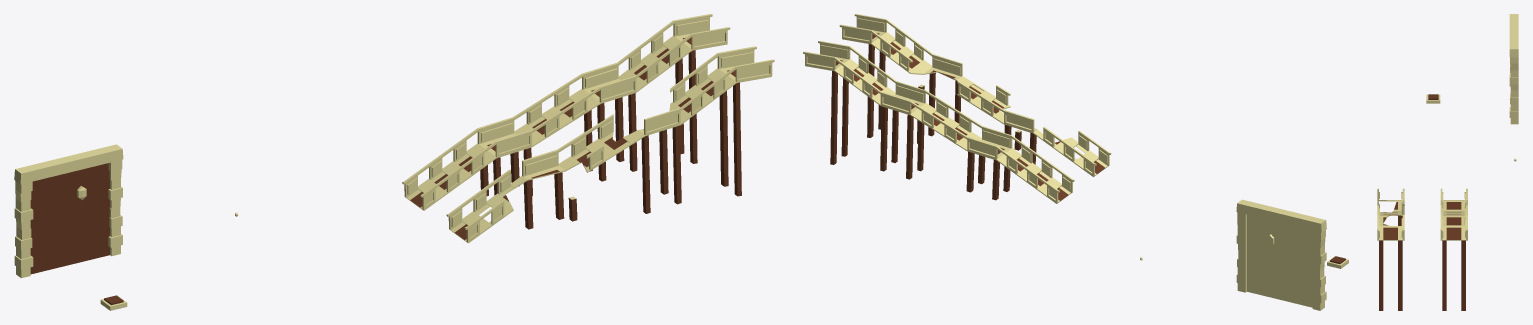
Rendered from extras.fbx.
3 renders of one model, left to right at view 1: azimuth 30°, elevation 25°; view 2: azimuth 150°, elevation 25°; view 3: azimuth 270°, elevation 25°, orthographic. The views are drawn at different scales.
Parts seen in each view (by area): view 1: brückeHeil, brückeSchrott, tor; view 2: brückeHeil, tor, brückeSchrott; view 3: brückeHeil, brückeSchrott, tor, knopf.
Boxes of the visible parts, x1=… form: brückeHeil: x1=402, y1=14, x2=730, y2=210; brückeSchrott: x1=446, y1=46, x2=774, y2=243; tor: x1=14, y1=144, x2=123, y2=278; brückeHeil: x1=803, y1=41, x2=1074, y2=203; tor: x1=1236, y1=199, x2=1326, y2=310; brückeSchrott: x1=839, y1=14, x2=1111, y2=176; brückeHeil: x1=1440, y1=188, x2=1467, y2=310; brückeSchrott: x1=1377, y1=188, x2=1404, y2=310; tor: x1=1509, y1=14, x2=1518, y2=124; knopf: x1=1426, y1=94, x2=1440, y2=103.
Bounding box in the file's own units: 14112 × 2674 × 3648.
